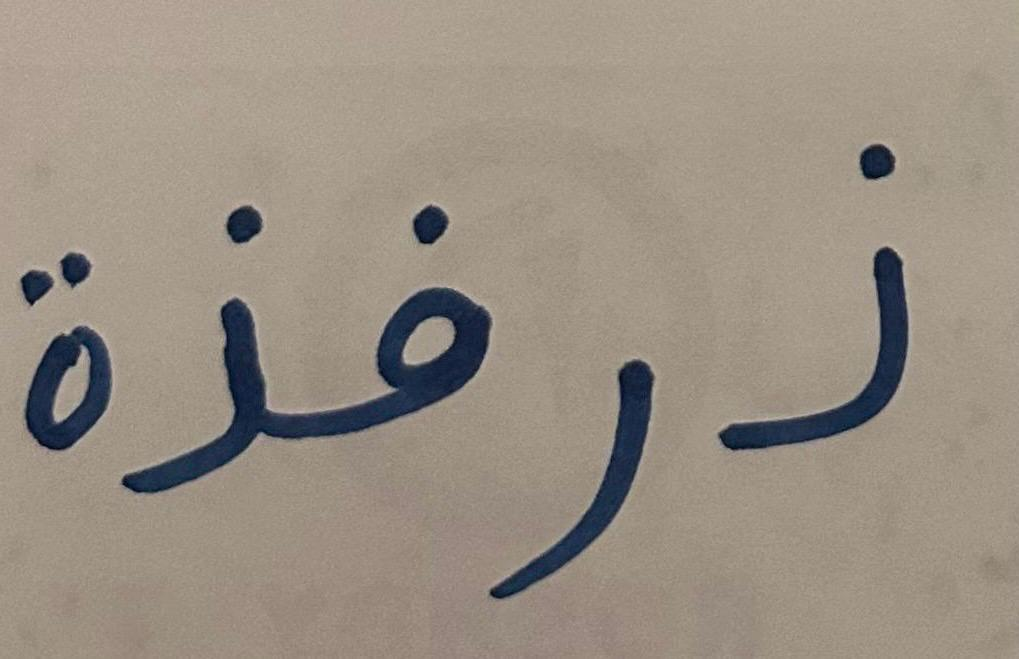ain: (687, 79, 981, 496), (122, 187, 284, 520)
feh: (287, 151, 506, 472)
sad: (510, 197, 681, 631)
thal: (5, 192, 117, 487)
